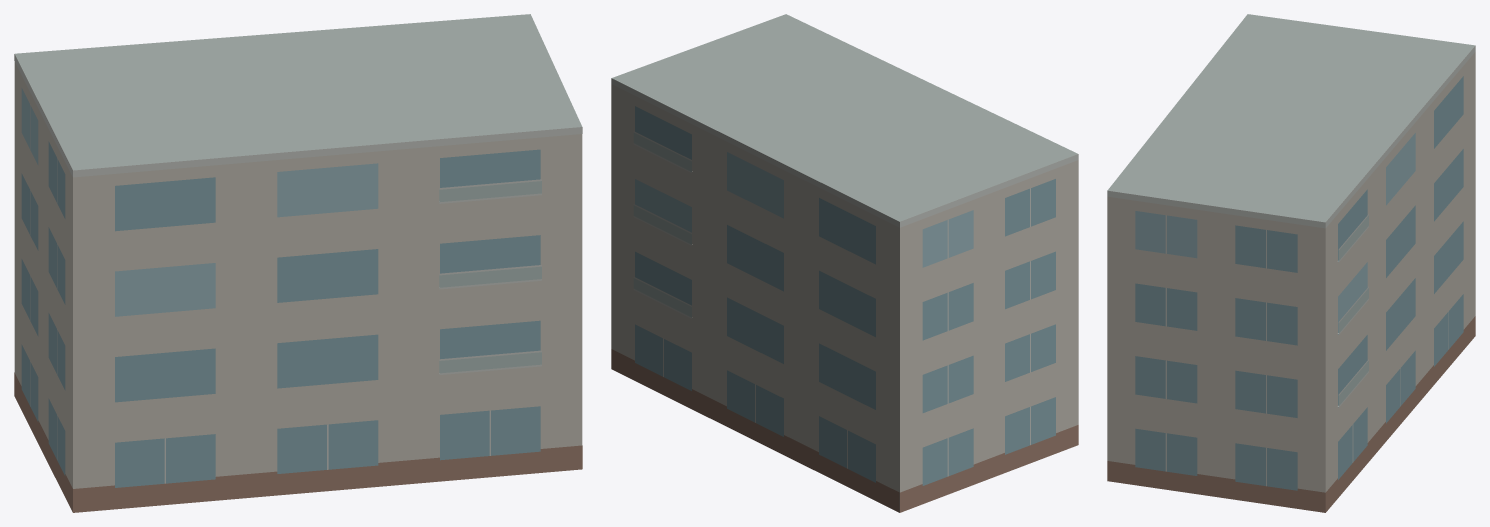
Rendered from survey-upis-32844570.glb.
The picture shows the model from 3 angles, left to right: view 1: azimuth 30°, elevation 25°; view 2: azimuth 150°, elevation 25°; view 3: azimuth 270°, elevation 25°; orthographic projection. The views are drawn at different scales.
Parts seen in each view (by area): view 1: survey-upis-32844570.tmp; view 2: survey-upis-32844570.tmp; view 3: survey-upis-32844570.tmp.
Part boxes in pixels (x1=…): survey-upis-32844570.tmp: x1=14, y1=14, x2=582, y2=512; survey-upis-32844570.tmp: x1=611, y1=14, x2=1078, y2=512; survey-upis-32844570.tmp: x1=1107, y1=14, x2=1475, y2=512.
Size of the model in its own units: 18.32 by 11.9 by 13.69.
